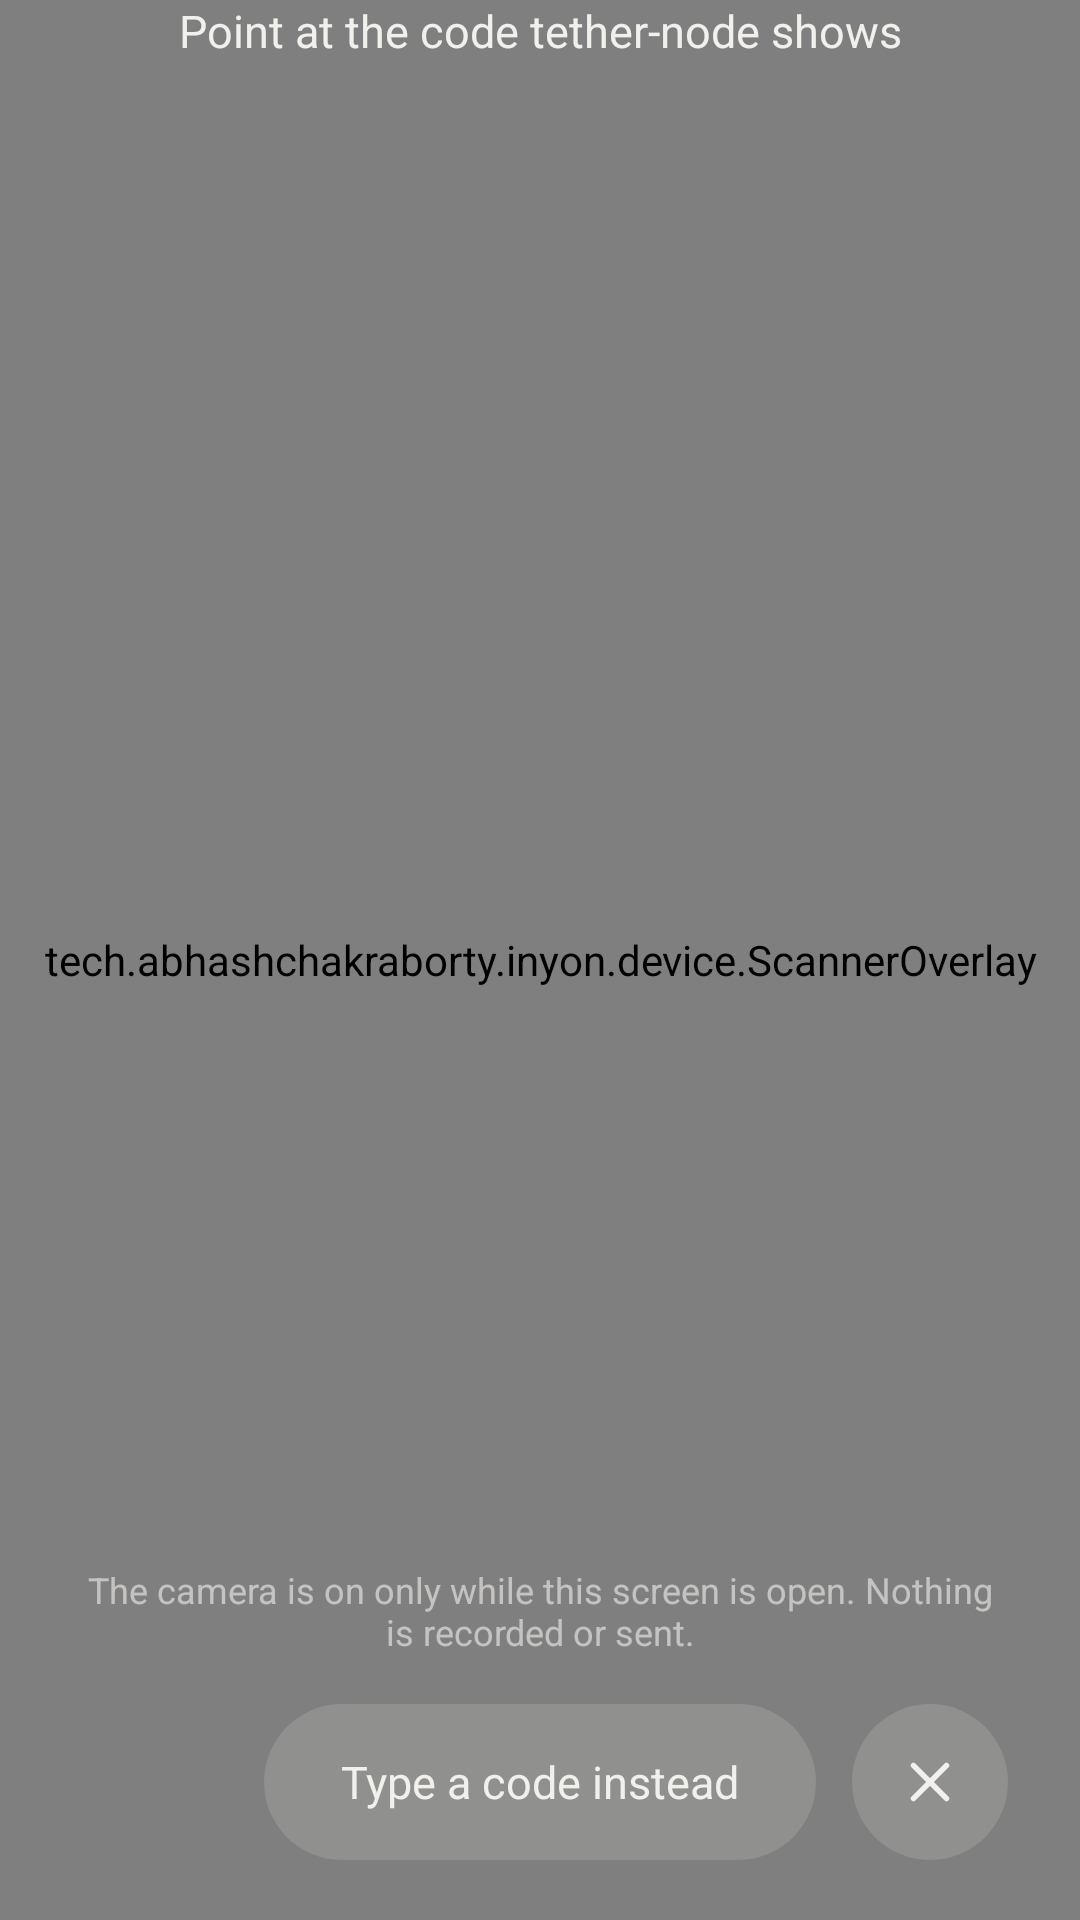

Named icons in this screenshot (1080px x 1920px) and their bounding boxes, (x1, y1, x2, y2):
Close: (852, 1704, 1008, 1860)
